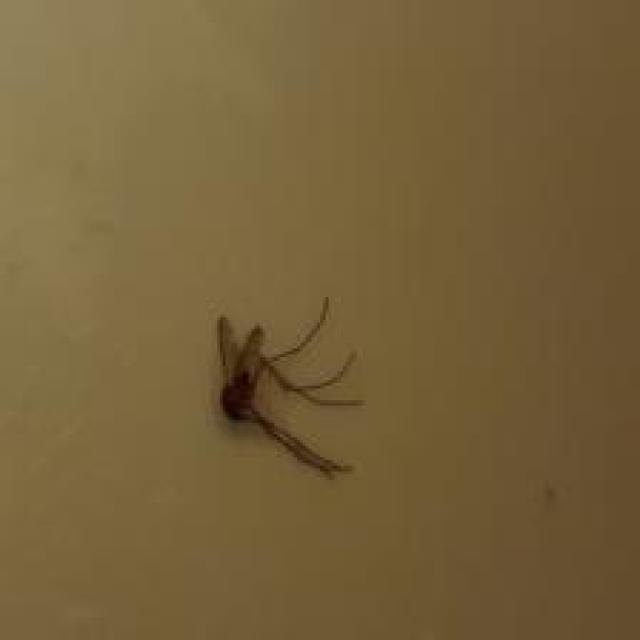Culex: (214, 296, 366, 478)
